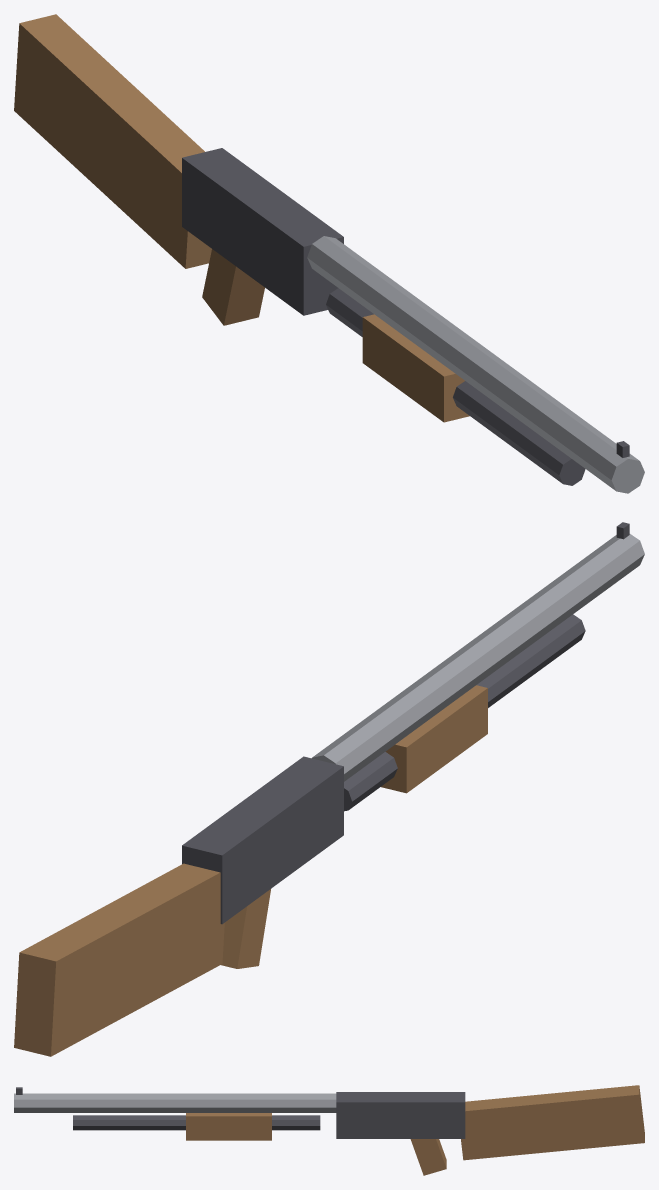
File: weapon_shotgun.glb
The picture shows the model from 3 angles, top to bottom: view 1: azimuth 30°, elevation 25°; view 2: azimuth 150°, elevation 25°; view 3: azimuth 270°, elevation 25°; orthographic projection. The views are drawn at different scales.
Visible parts, largest first — view 1: barrel; view 2: barrel; view 3: barrel.
Part boxes in pixels (box(x1,y1,x2,y2)): barrel: box(14, 14, 644, 493); barrel: box(14, 522, 644, 1056); barrel: box(14, 1085, 644, 1175).
Bounding box in the file's own units: 0.05 × 0.1708 × 1.17.
